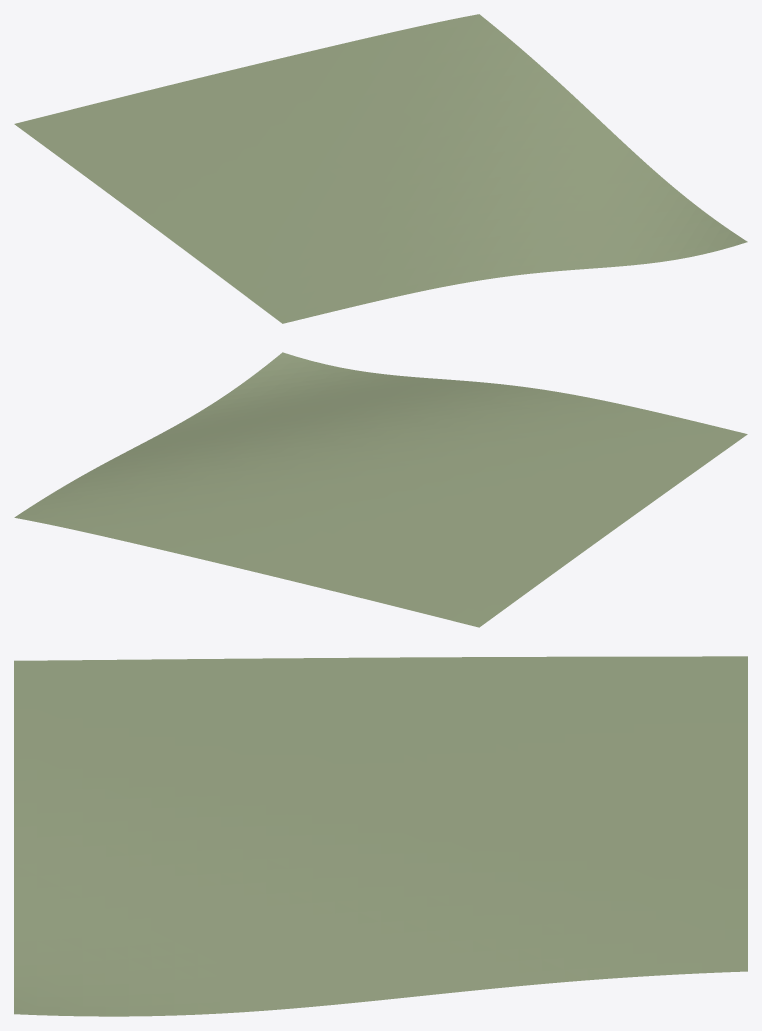
The model's file is desert-12-29.glb.
3 views of the same model, one above another, from view 1: azimuth 30°, elevation 25°; view 2: azimuth 150°, elevation 25°; view 3: azimuth 270°, elevation 25° (orthographic). The views are drawn at different scales.
Parts seen in each view (by area): view 1: desert-12-29; view 2: desert-12-29; view 3: desert-12-29.
Part boxes in pixels (x1,y1,x2,y2): desert-12-29: [14, 14, 747, 323]; desert-12-29: [14, 352, 747, 627]; desert-12-29: [14, 656, 747, 1016].
Size of the model in its own units: 512 by 39.35 by 512.
